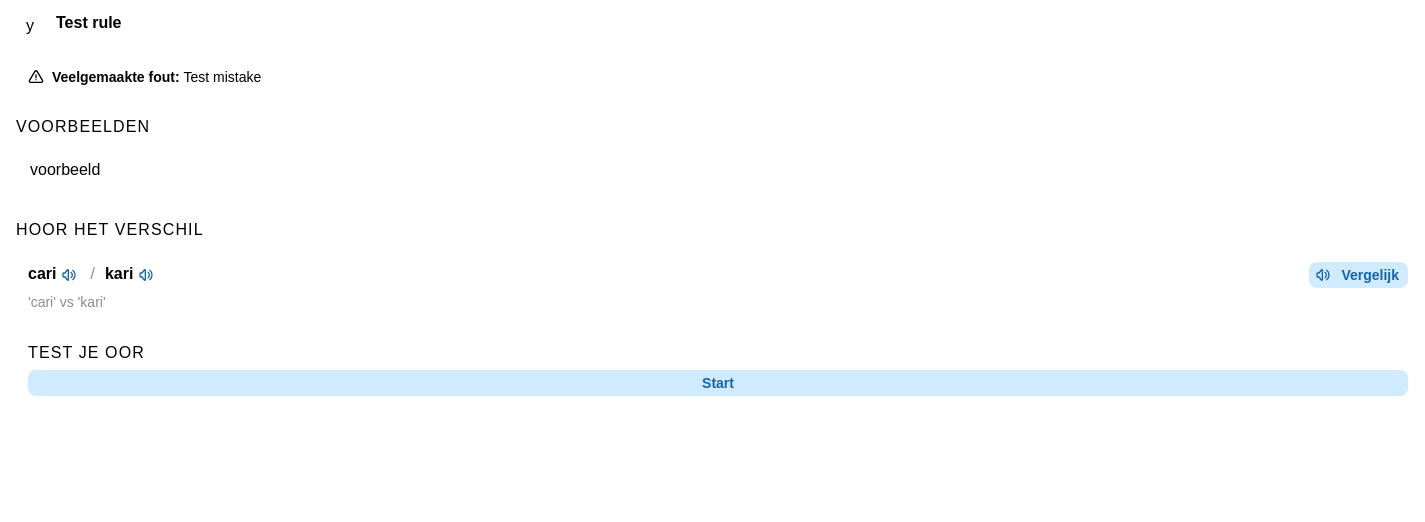
Test case: EarQuiz — "Test je oor" (Task U-C) › shows the correct word and a continue button on a wrong answer, with no auto-advance
This screenshot has width=1425, height=522.
Click the button "Start". click: (718, 383)
box: [28,370,1408,396]
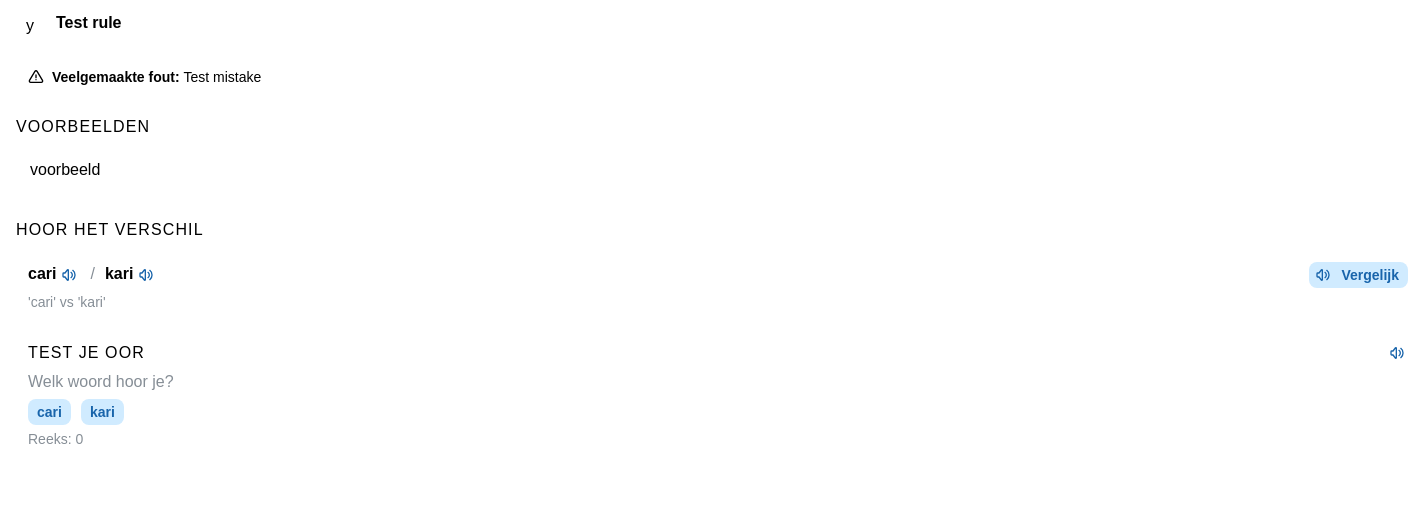
Click the button "kari". click: (102, 412)
box: [81,399,124,425]
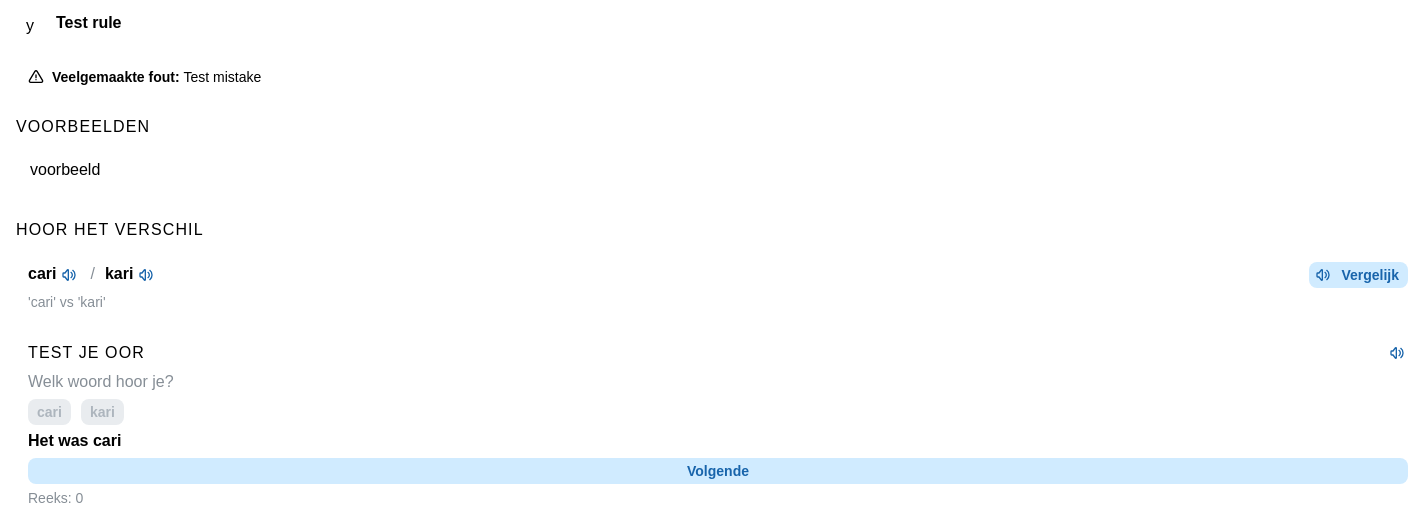
Now the text "Reeks: 0" is shown, box [28,490,83,506]
Now the text "Het was cari" is shown, box [28,432,121,449]
Now the button "Volgende" is shown, box [28,458,1408,484]
